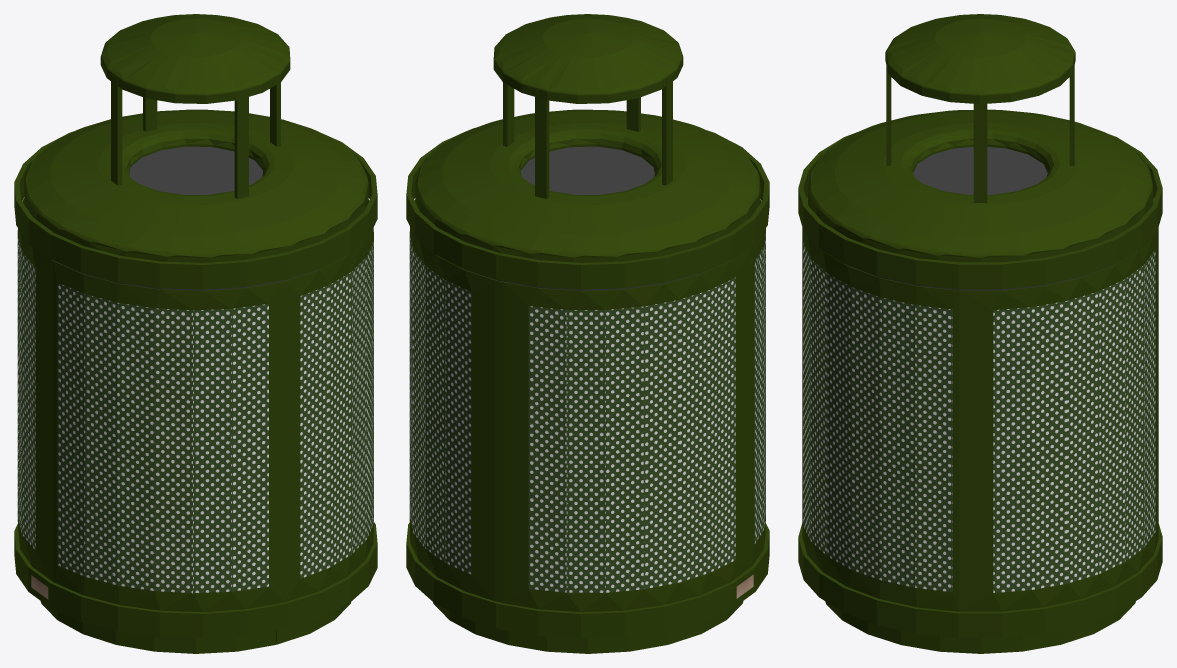
The picture shows the model from 3 angles, left to right: view 1: azimuth 30°, elevation 25°; view 2: azimuth 150°, elevation 25°; view 3: azimuth 270°, elevation 25°; orthographic projection.
Parts seen in each view (by area): view 1: mesh3.002_mesh3-geometry, mesh40.002_mesh40-geometry, mesh9.002_mesh9-geometry, mesh1.002_mesh1-geometry, mesh35.002_mesh35-geometry, mesh22.002_mesh22-geometry, mesh24.002_mesh24-geometry, mesh5.002_mesh5-geometry, mesh66.002_mesh66-geometry, mesh23.002_mesh23-geometry, mesh36.002_mesh36-geometry, mesh38.002_mesh38-geometry (+1 smaller); view 2: mesh5.002_mesh5-geometry, mesh9.002_mesh9-geometry, mesh40.002_mesh40-geometry, mesh7.002_mesh7-geometry, mesh35.002_mesh35-geometry, mesh22.002_mesh22-geometry, mesh24.002_mesh24-geometry, mesh66.002_mesh66-geometry, mesh23.002_mesh23-geometry, mesh3.002_mesh3-geometry, mesh39.002_mesh39-geometry, mesh38.002_mesh38-geometry (+1 smaller); view 3: mesh7.002_mesh7-geometry, mesh1.002_mesh1-geometry, mesh40.002_mesh40-geometry, mesh9.002_mesh9-geometry, mesh35.002_mesh35-geometry, mesh22.002_mesh22-geometry, mesh24.002_mesh24-geometry, mesh66.002_mesh66-geometry, mesh23.002_mesh23-geometry, mesh37.002_mesh37-geometry, mesh39.002_mesh39-geometry, mesh36.002_mesh36-geometry.
Boxes of the visible parts, <box> form: mesh3.002_mesh3-geometry: <box>57,282,268,593</box>; mesh40.002_mesh40-geometry: <box>24,109,368,262</box>; mesh9.002_mesh9-geometry: <box>17,198,373,612</box>; mesh1.002_mesh1-geometry: <box>300,240,373,578</box>; mesh35.002_mesh35-geometry: <box>100,14,290,103</box>; mesh22.002_mesh22-geometry: <box>14,131,377,289</box>; mesh24.002_mesh24-geometry: <box>14,522,377,638</box>; mesh5.002_mesh5-geometry: <box>17,237,35,550</box>; mesh66.002_mesh66-geometry: <box>54,146,320,290</box>; mesh23.002_mesh23-geometry: <box>40,601,350,653</box>; mesh36.002_mesh36-geometry: <box>234,89,248,198</box>; mesh38.002_mesh38-geometry: <box>111,74,122,185</box>; mesh5.002_mesh5-geometry: <box>528,277,735,592</box>; mesh9.002_mesh9-geometry: <box>409,199,765,612</box>; mesh40.002_mesh40-geometry: <box>415,109,760,262</box>; mesh7.002_mesh7-geometry: <box>409,235,471,574</box>; mesh35.002_mesh35-geometry: <box>493,14,683,103</box>; mesh22.002_mesh22-geometry: <box>406,128,769,289</box>; mesh24.002_mesh24-geometry: <box>406,522,769,638</box>; mesh66.002_mesh66-geometry: <box>462,146,729,290</box>; mesh23.002_mesh23-geometry: <box>433,601,743,653</box>; mesh3.002_mesh3-geometry: <box>754,231,765,544</box>; mesh39.002_mesh39-geometry: <box>535,89,549,198</box>; mesh38.002_mesh38-geometry: <box>662,74,672,185</box>; mesh7.002_mesh7-geometry: <box>993,249,1155,592</box>; mesh1.002_mesh1-geometry: <box>803,243,952,592</box>; mesh40.002_mesh40-geometry: <box>808,109,1153,262</box>; mesh9.002_mesh9-geometry: <box>802,227,1158,611</box>; mesh35.002_mesh35-geometry: <box>885,14,1075,104</box>; mesh22.002_mesh22-geometry: <box>798,133,1162,289</box>; mesh24.002_mesh24-geometry: <box>798,523,1162,637</box>; mesh66.002_mesh66-geometry: <box>847,147,1113,290</box>; mesh23.002_mesh23-geometry: <box>825,601,1135,653</box>; mesh37.002_mesh37-geometry: <box>973,97,987,202</box>; mesh39.002_mesh39-geometry: <box>1069,59,1074,165</box>; mesh36.002_mesh36-geometry: <box>886,59,891,165</box>.
Bounding box in the file's own units: 0.4536 × 0.7652 × 0.4568.
